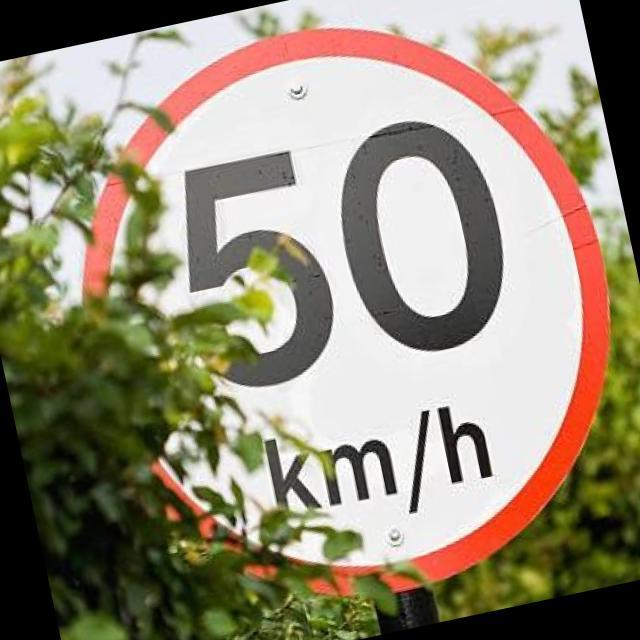obstructed_road_sign: (83, 31, 610, 605)
